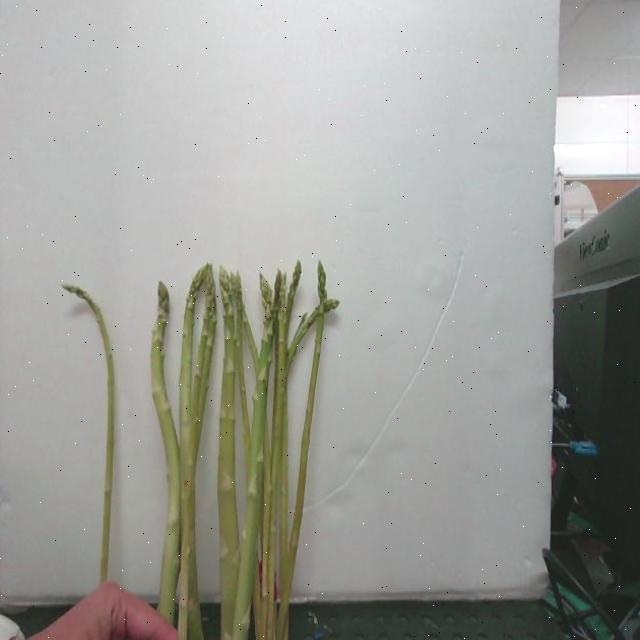aspargus: (64, 286, 119, 583)
